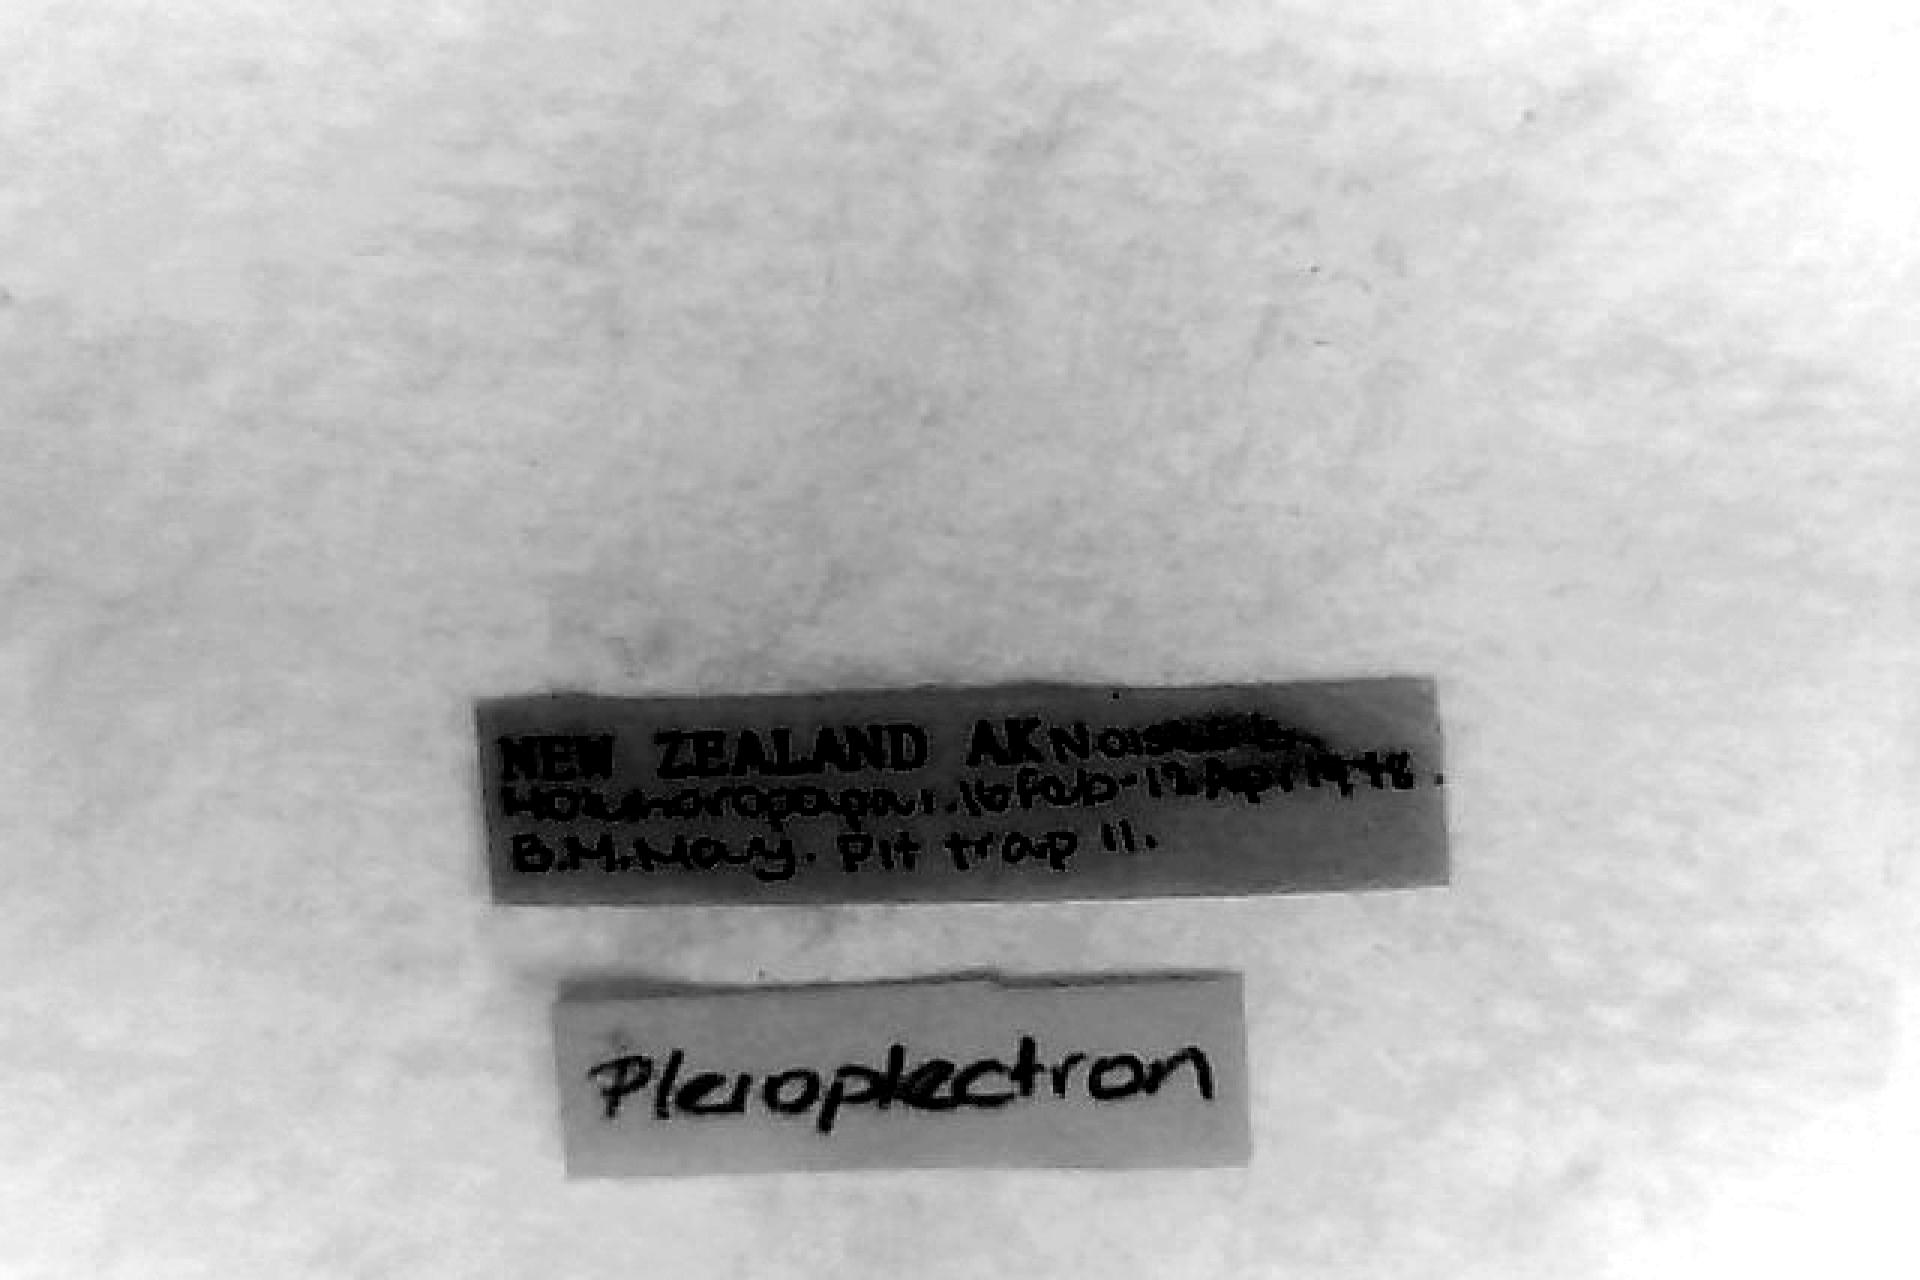hand_label: (554, 977, 1243, 1174)
mixed_label: (476, 686, 1447, 903)
